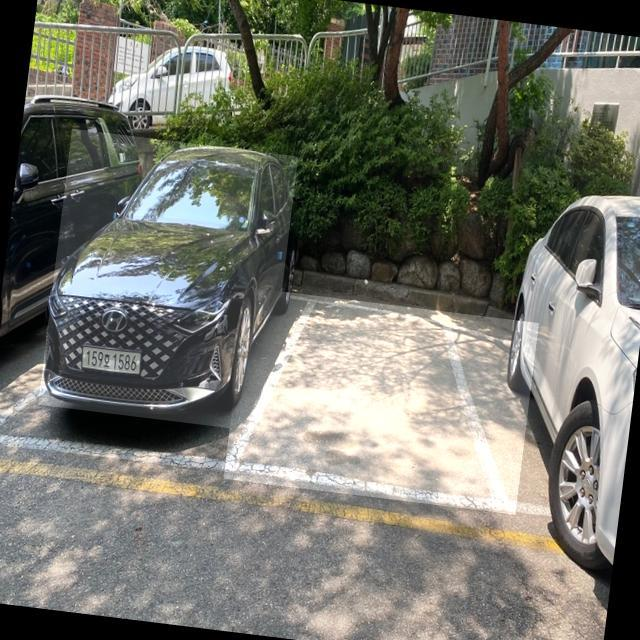empty: (225, 294, 515, 514)
occupied: (38, 128, 298, 432)
